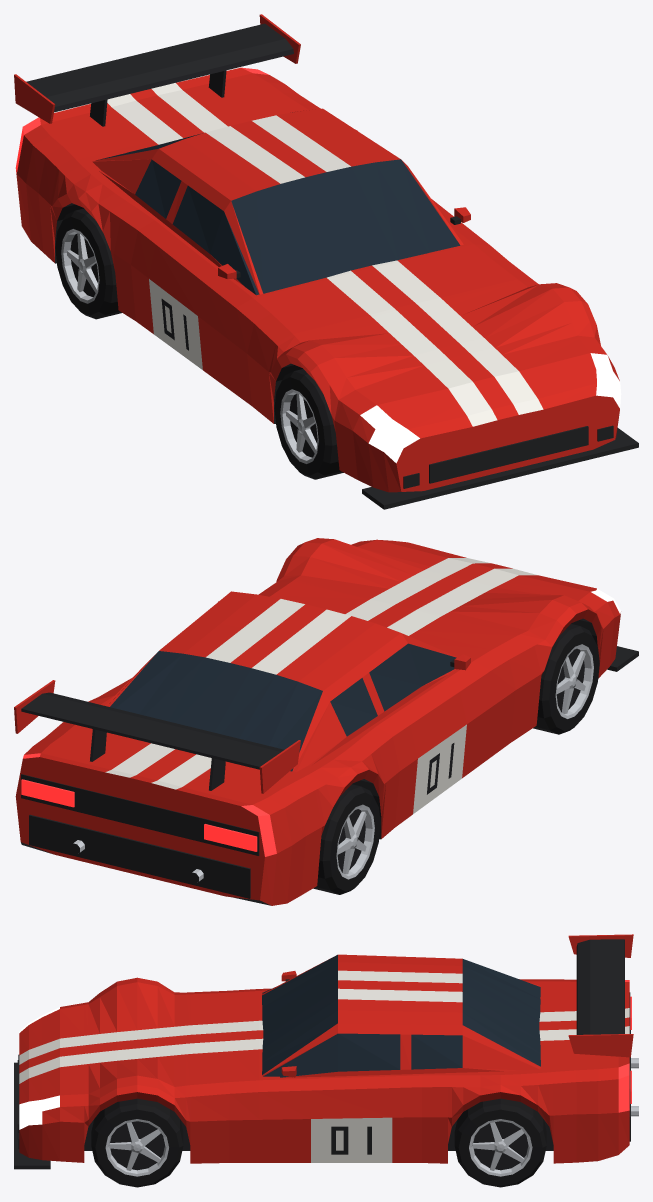
File: race-car-01.glb
3 renders of one model, top to bottom at view 1: azimuth 30°, elevation 25°; view 2: azimuth 150°, elevation 25°; view 3: azimuth 270°, elevation 25°, orthographic. The views are drawn at different scales.
Visible parts, largest first — view 1: Body, Wheel_FR, Wheel_RR; view 2: Body, Wheel_RR, Wheel_FR; view 3: Body, Wheel_FL, Wheel_RL.
Part boxes in pixels (x1,y1,x2,y2): Body: [14, 14, 638, 509]; Wheel_FR: [274, 369, 343, 479]; Wheel_RR: [55, 208, 121, 319]; Body: [14, 538, 638, 905]; Wheel_RR: [313, 784, 380, 894]; Wheel_FR: [533, 624, 599, 734]; Body: [14, 934, 638, 1169]; Wheel_FL: [91, 1098, 183, 1187]; Wheel_RL: [454, 1098, 546, 1187].
Size of the model in its own units: 1.97 by 1.22 by 4.61.
